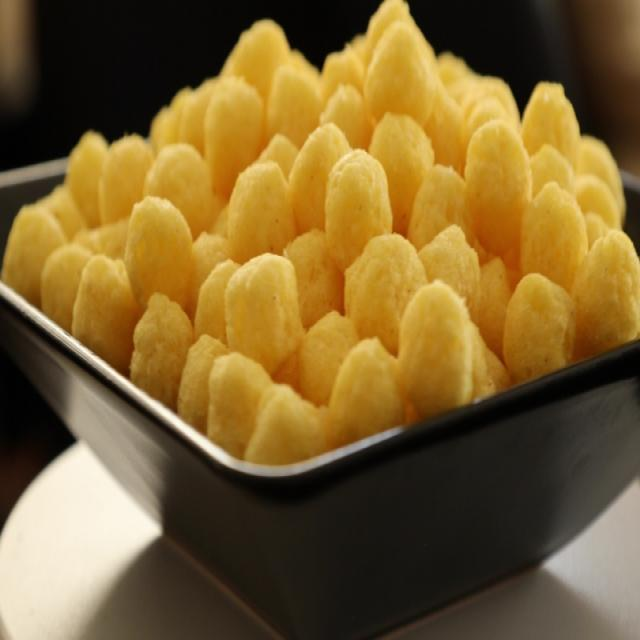Chips packaged: (394, 267, 478, 415), (215, 243, 301, 363), (313, 148, 393, 274), (123, 196, 204, 312), (460, 120, 533, 248), (363, 21, 439, 131), (573, 232, 639, 356), (507, 274, 569, 394), (228, 163, 301, 261)
